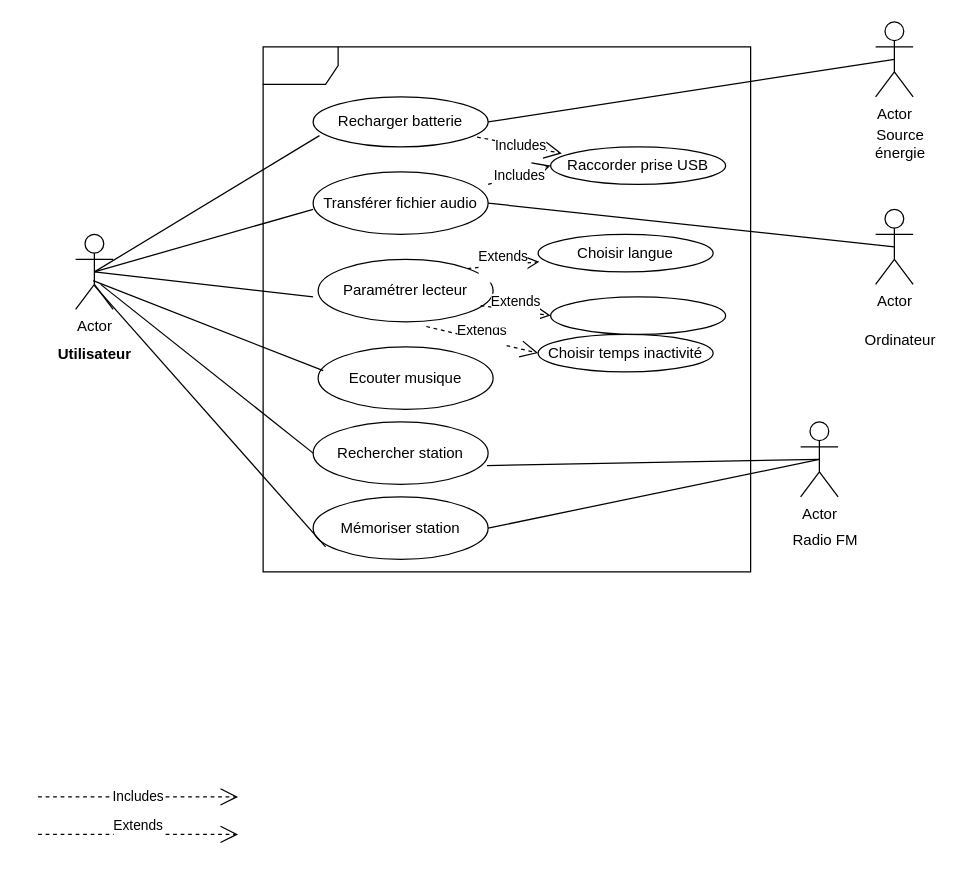
This 960x874 diagram has some shape labels left out. Here are the shapes that lost their labels. From the top down, the box of each, then its label:
(262, 46, 751, 572): frame
(549, 296, 726, 334): Choisir ambiance musicale
